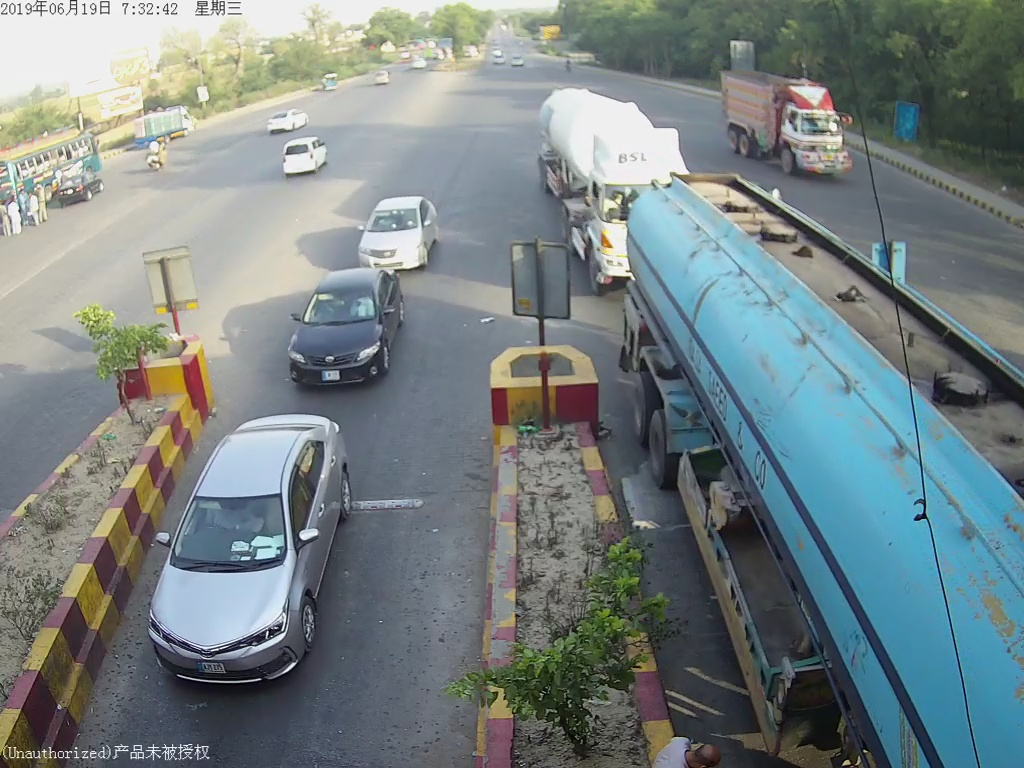Cat-1: (149, 439, 375, 695), (292, 276, 405, 376), (354, 208, 437, 266)
